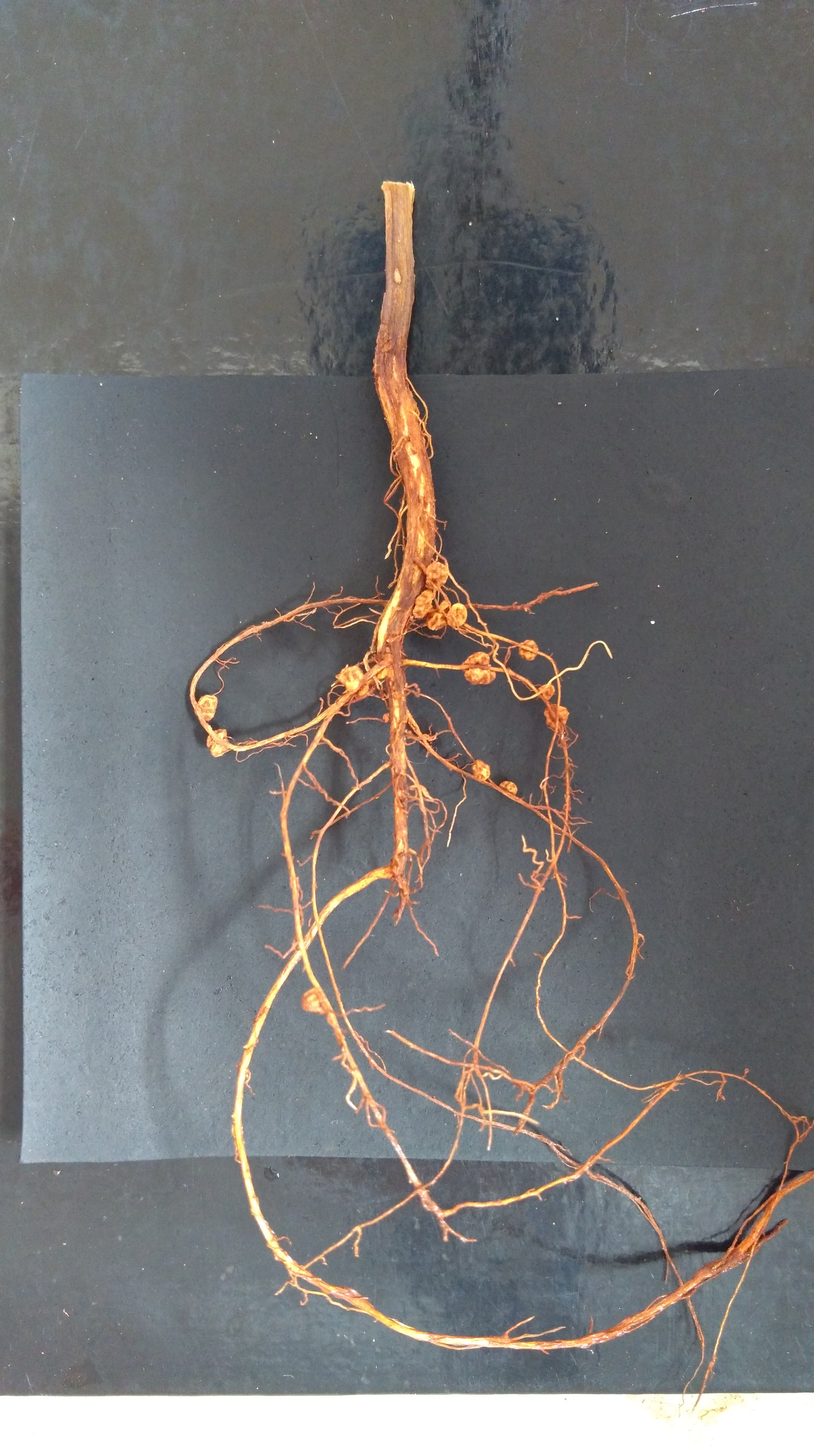nodule: (461, 651, 496, 686), (337, 665, 369, 696), (300, 986, 328, 1016), (542, 702, 569, 731), (426, 600, 451, 631), (411, 589, 434, 620), (424, 561, 448, 589), (206, 729, 229, 758), (194, 695, 218, 722), (446, 602, 468, 629), (517, 639, 539, 661), (471, 759, 491, 783), (368, 666, 390, 686), (538, 683, 556, 701), (498, 780, 517, 797), (404, 440, 417, 456), (381, 712, 390, 723)
